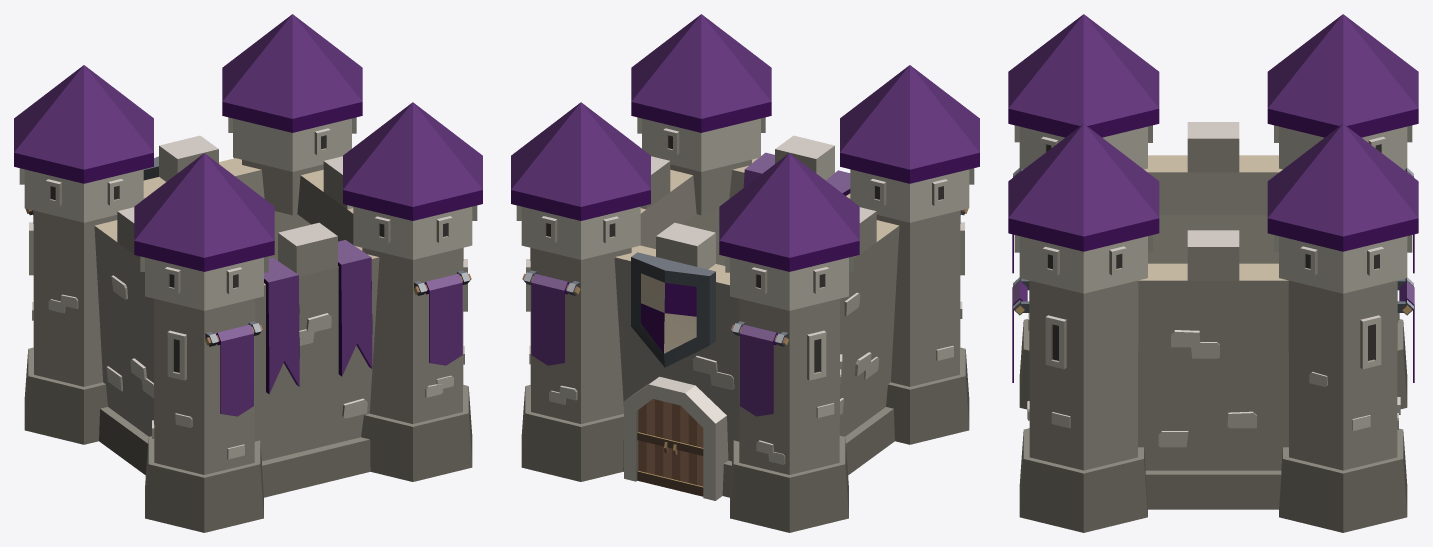
File: Barracks_Lv4B.obj
3 renders of one model, left to right at view 1: azimuth 30°, elevation 25°; view 2: azimuth 150°, elevation 25°; view 3: azimuth 270°, elevation 25°, orthographic. The views are drawn at different scales.
Visible parts, largest first — view 1: Barracks_Lv4B; view 2: Barracks_Lv4B; view 3: Barracks_Lv4B.
Boxes of the visible parts, left/top/right/bottom form: Barracks_Lv4B: left=14, top=14, right=482, bottom=532; Barracks_Lv4B: left=511, top=14, right=979, bottom=532; Barracks_Lv4B: left=1008, top=14, right=1418, bottom=532.
Bounding box in the file's own units: 9.36 × 9.01 × 8.86.
1 material, 1 textured.
